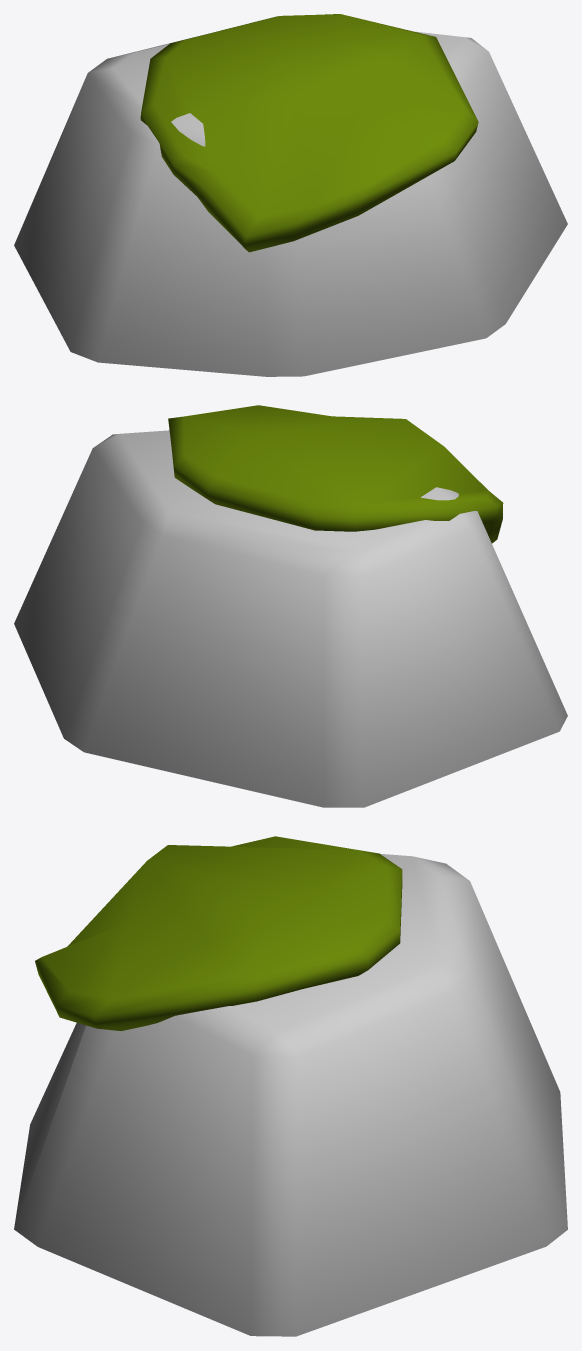
File: Rock_Mossy_02.fbx
3 renders of one model, top to bottom at view 1: azimuth 30°, elevation 25°; view 2: azimuth 150°, elevation 25°; view 3: azimuth 270°, elevation 25°, orthographic. The views are drawn at different scales.
Parts seen in each view (by area): view 1: Rock_Mossy_02; view 2: Rock_Mossy_02; view 3: Rock_Mossy_02.
Part boxes in pixels (<box>): Rock_Mossy_02: <box>14,14,567,376</box>; Rock_Mossy_02: <box>14,405,567,807</box>; Rock_Mossy_02: <box>14,836,567,1336</box>.
Size of the model in its own units: 181 by 79.45 by 140.
